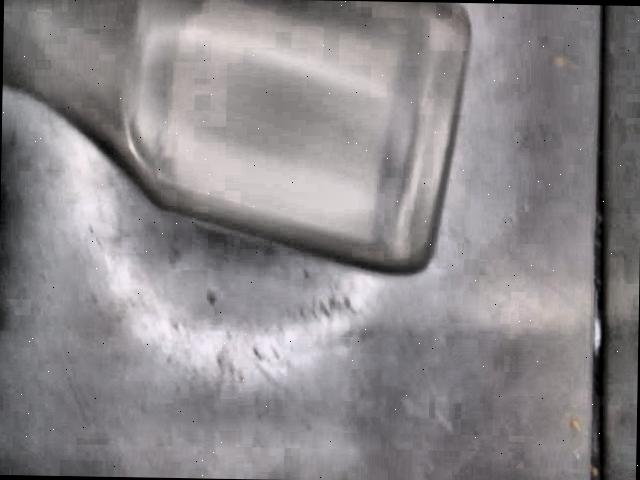Plastic: (3, 0, 474, 276)
